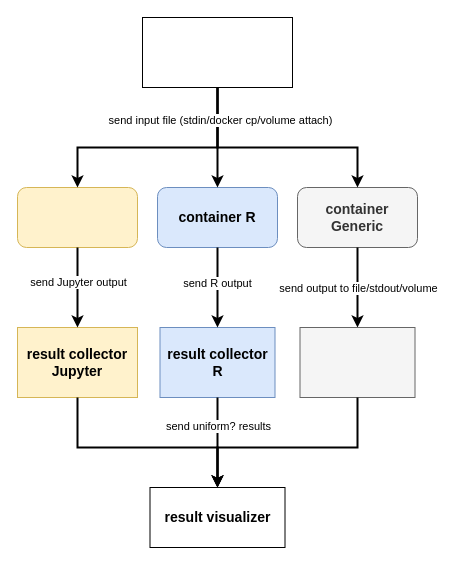
This 454x565 diagram has some shape labels left out. The shapes that lost their labels are listed below. From the top down, each one's centre as x and y in pixels, then its label:
the point at 217,52: runner/container manager
the point at 77,217: container Jupyter
the point at 357,362: result collector Generic
